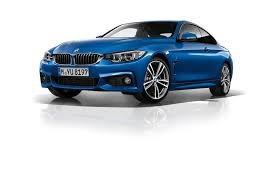bmw: (31, 14, 261, 106)
